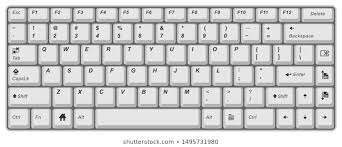keyboard: (0, 0, 341, 131)
